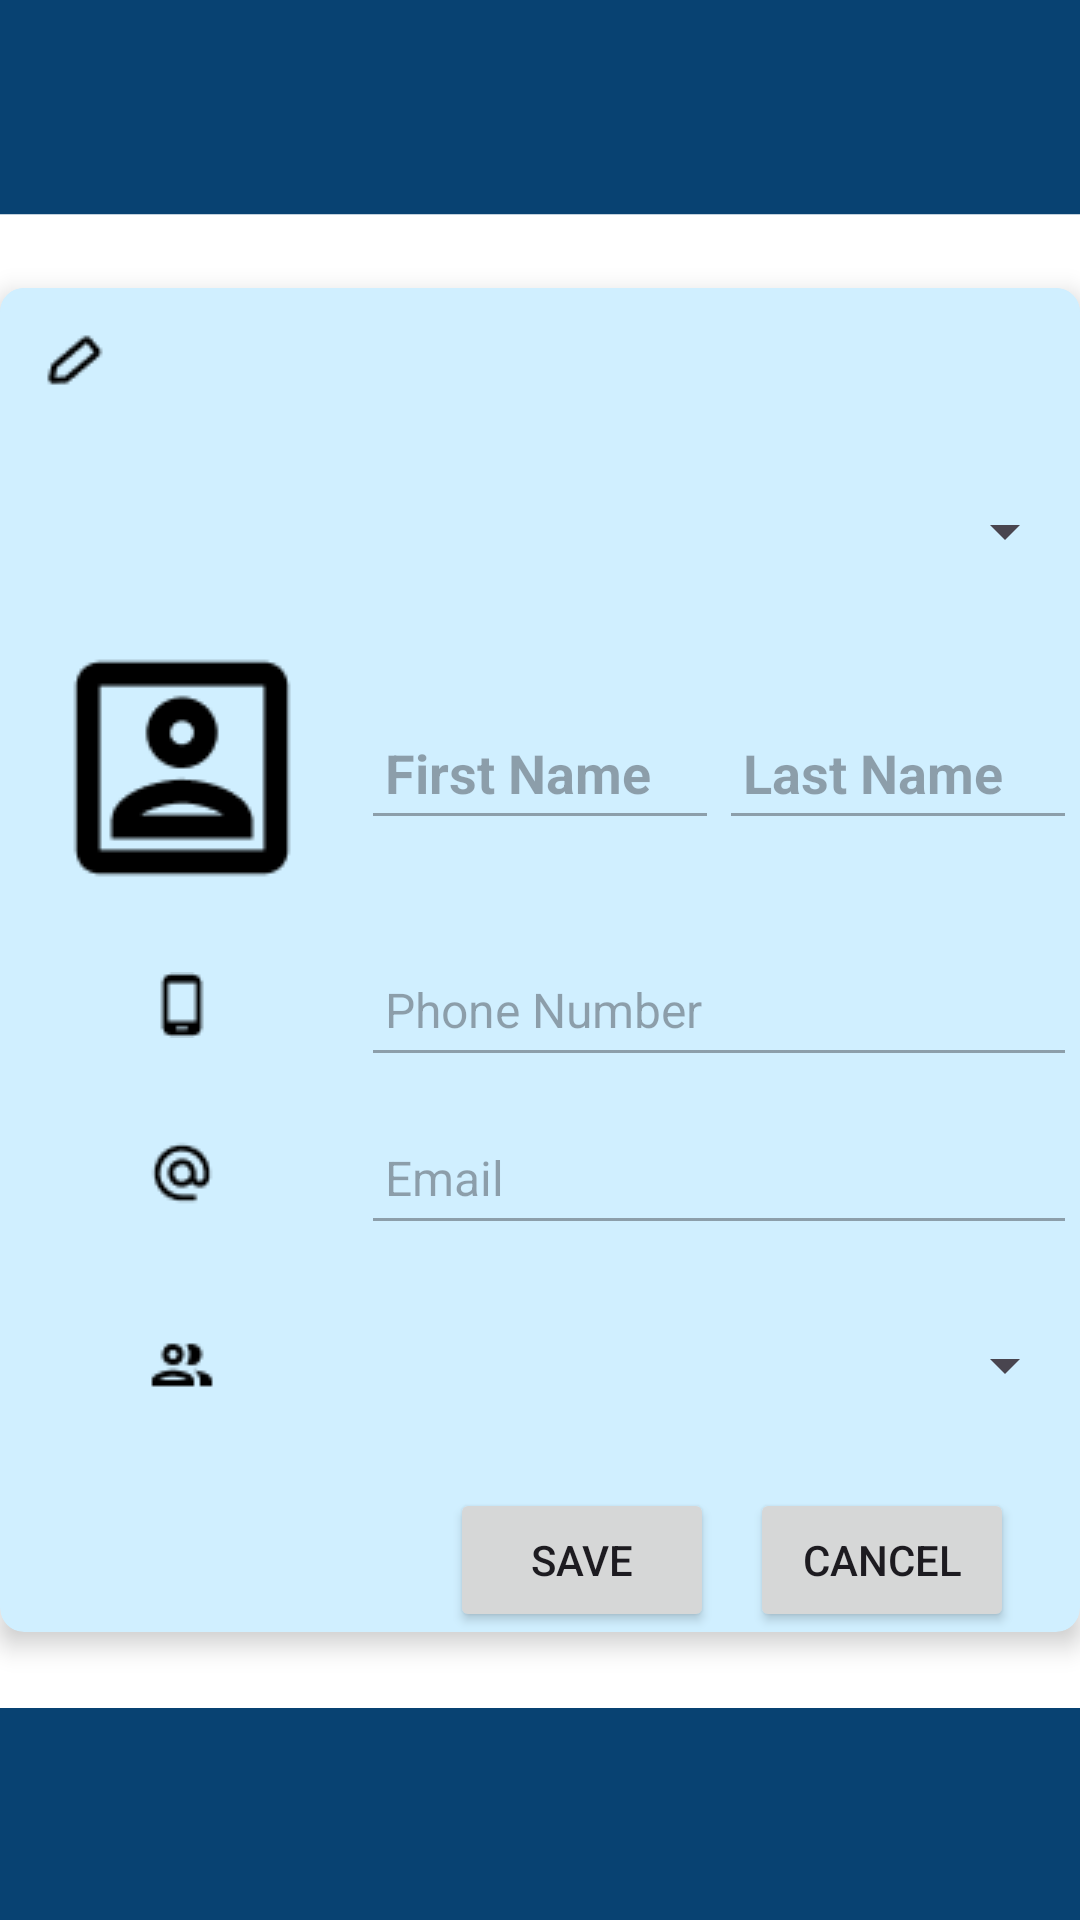

Icon click points for this 1080 x 1920 phone screenshot, format (x=x, y=y):
edit3: (x=75, y=360)
portrait: (x=182, y=768)
